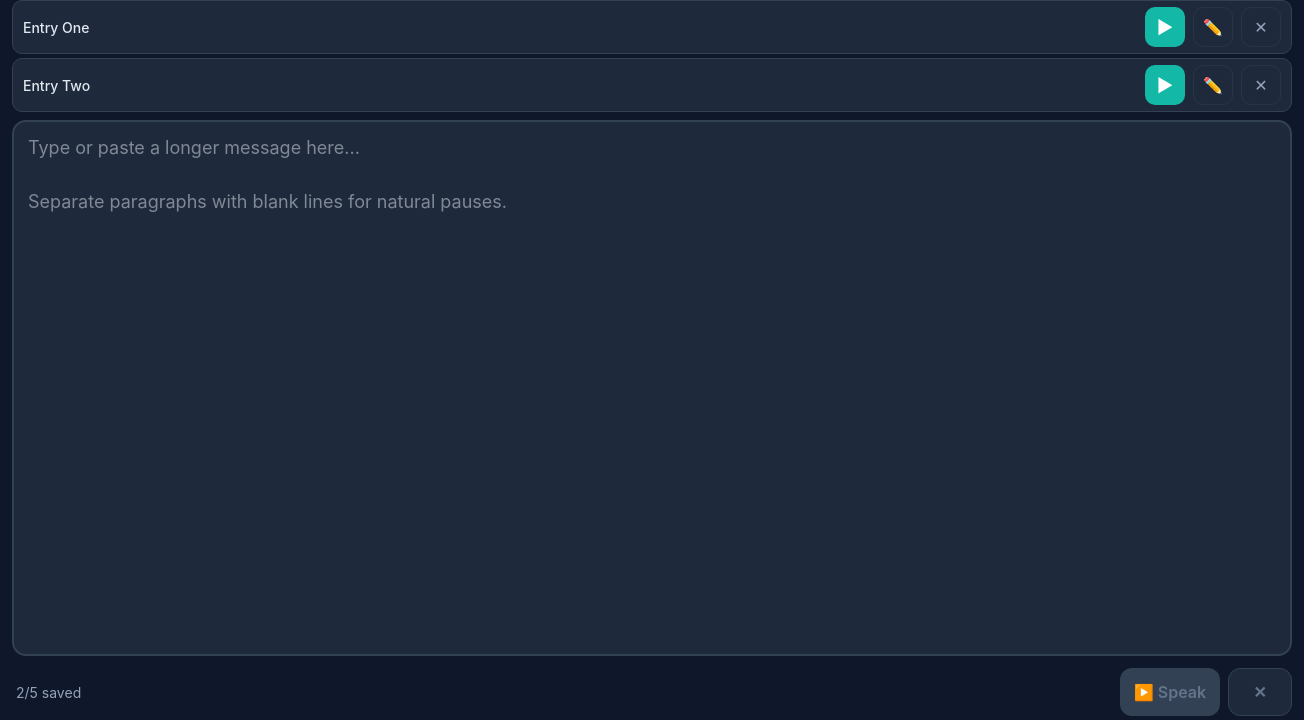
Scenario: Saved prose › deletes saved prose entry
This screenshot has width=1304, height=720.
Click the button named "Delete Entry One". click: click(1261, 27)
box: 1241,7 -> 1281,47
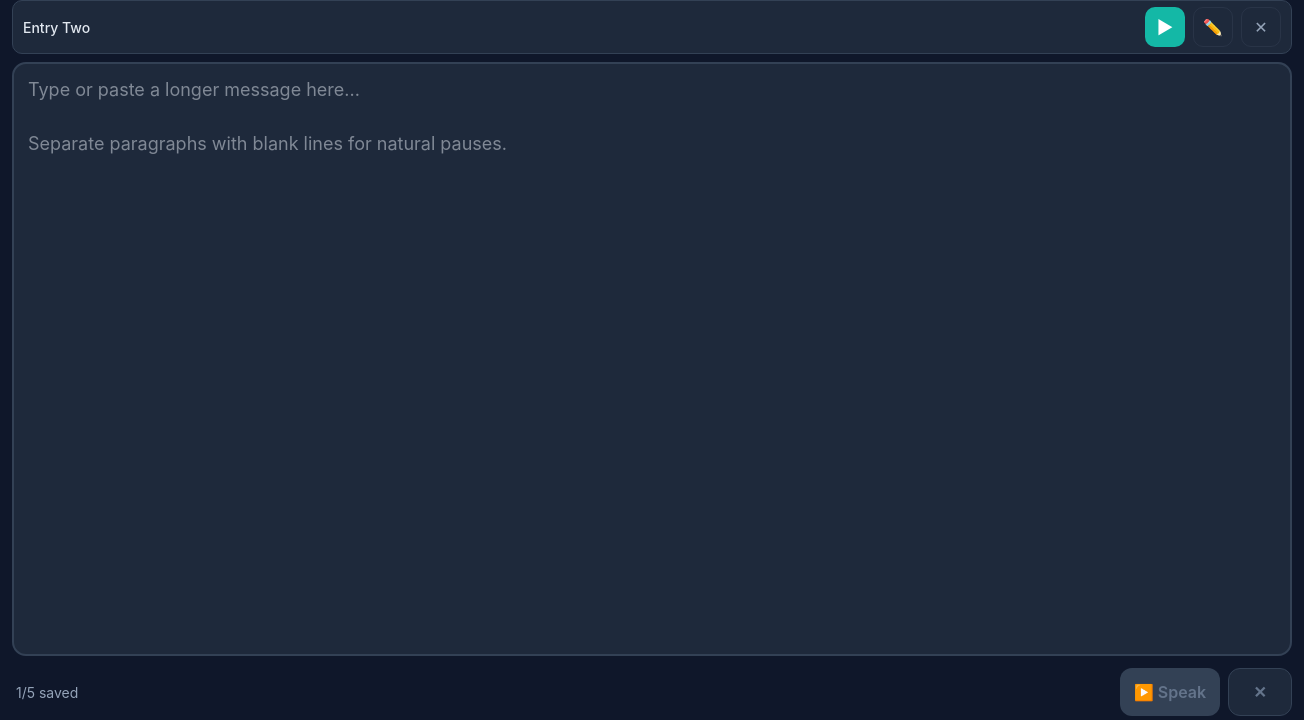
Expected: the text "Entry Two" is shown, 23,18 -> 90,36
Result: the text "Entry One" is gone
